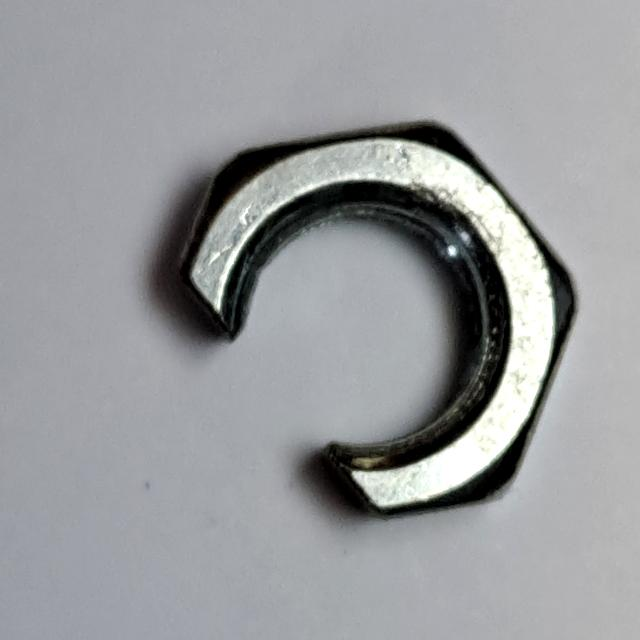Fracture: (162, 106, 587, 531)
